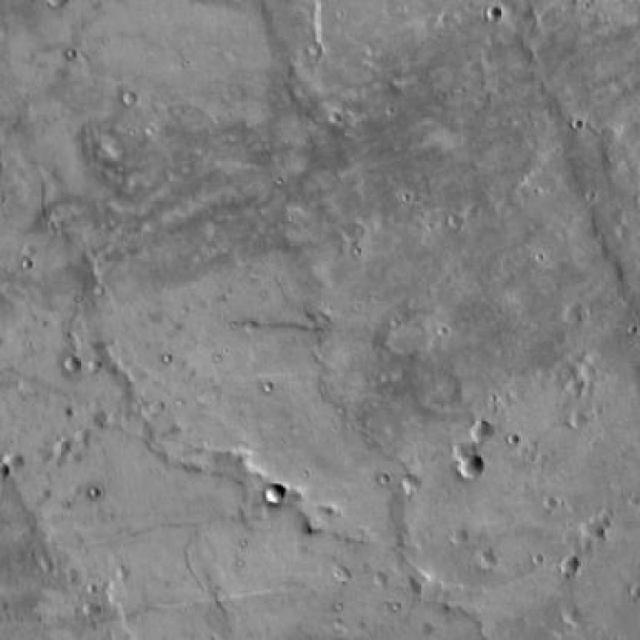crater: (470, 413, 492, 435), (462, 459, 482, 479), (62, 356, 80, 375), (266, 484, 285, 501), (396, 474, 415, 491), (559, 559, 578, 576), (562, 306, 580, 323), (580, 520, 598, 537), (570, 414, 587, 429), (4, 450, 16, 465), (634, 567, 640, 587)
